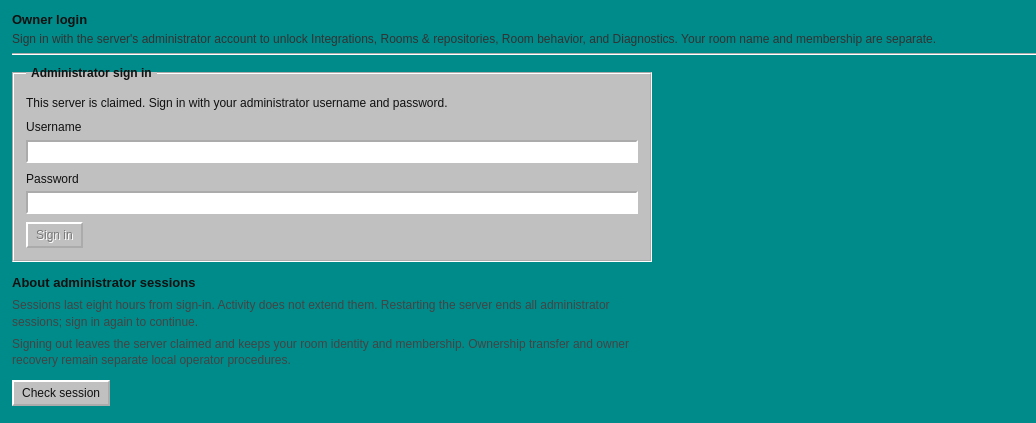
Test: canonical server administration › authenticates claimed=true with Enter and returns to the requested destination
Type "server-owner" into the field labelled "Username".
click(332, 151); type("server-owner")  # box [26,140,638,163]
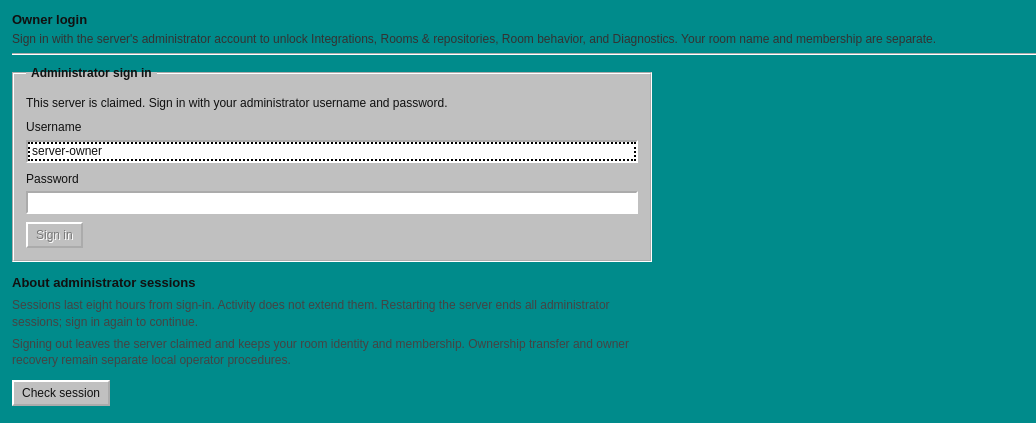
Type "fictional-password" into the password field labelled "Password".
click(332, 202); type("fictional-password")  # box [26,191,638,214]
Then press Enter
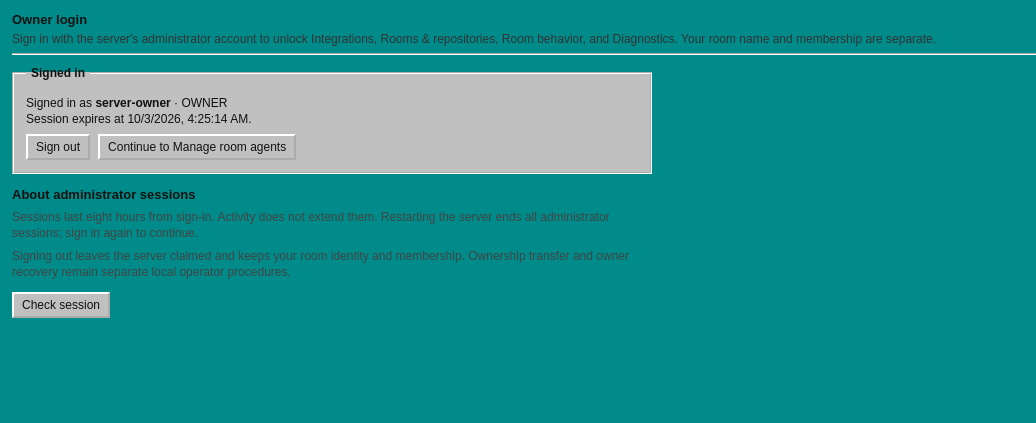
Expected: the text "server-owner" is shown, [95,96,171,110]
Expected: the text labelled "password" is gone
